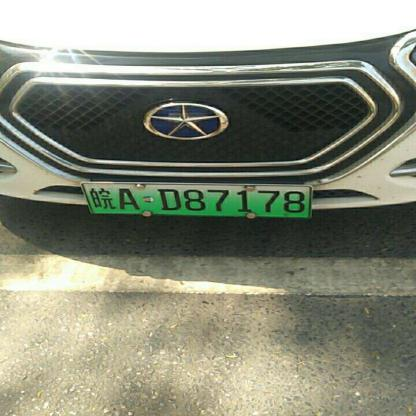lp: (82, 183, 309, 216)
